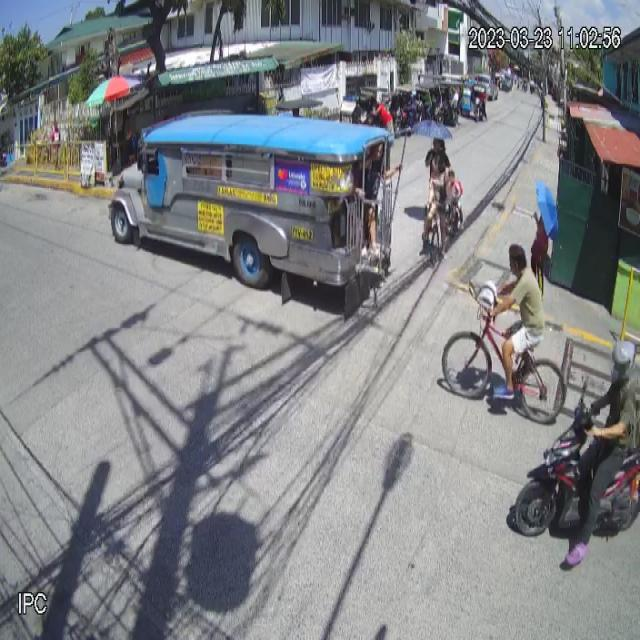Jeep: (107, 111, 395, 322)
Motorcycle: (513, 380, 640, 539)
